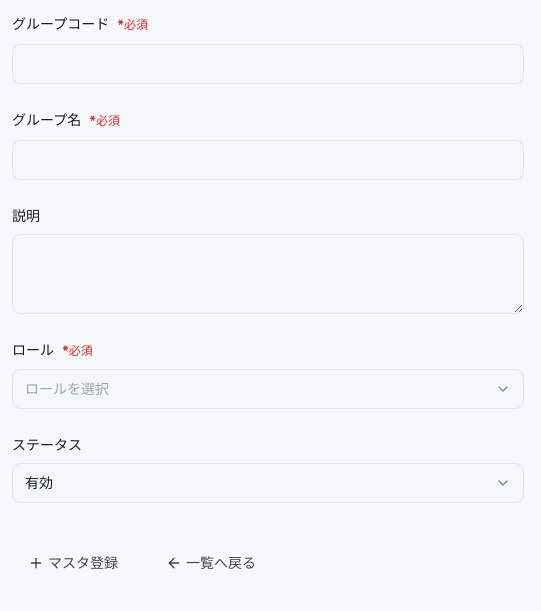
GroupForm - ロール選択の実表示（v2-427） › SYS_ADMIN の登録フォームでは従来どおり選択肢に出ること
Click the button "ロールを選択". click: {"x": 67, "y": 389}
box: left=12, top=369, right=524, bottom=409
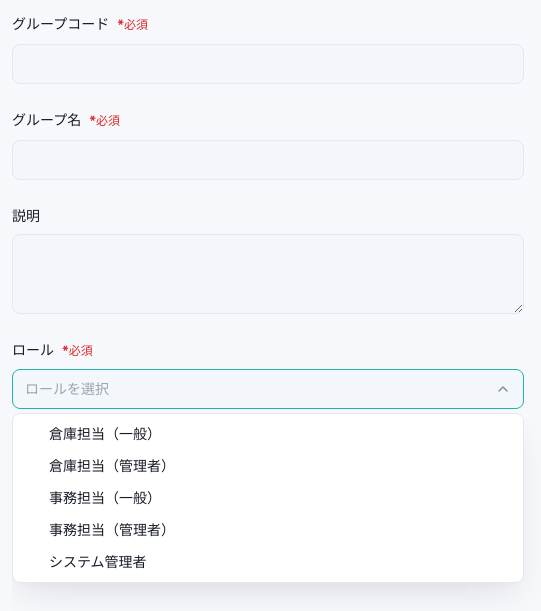
Now the option "システム管理者" is shown, box left=49, top=553, right=147, bottom=571
